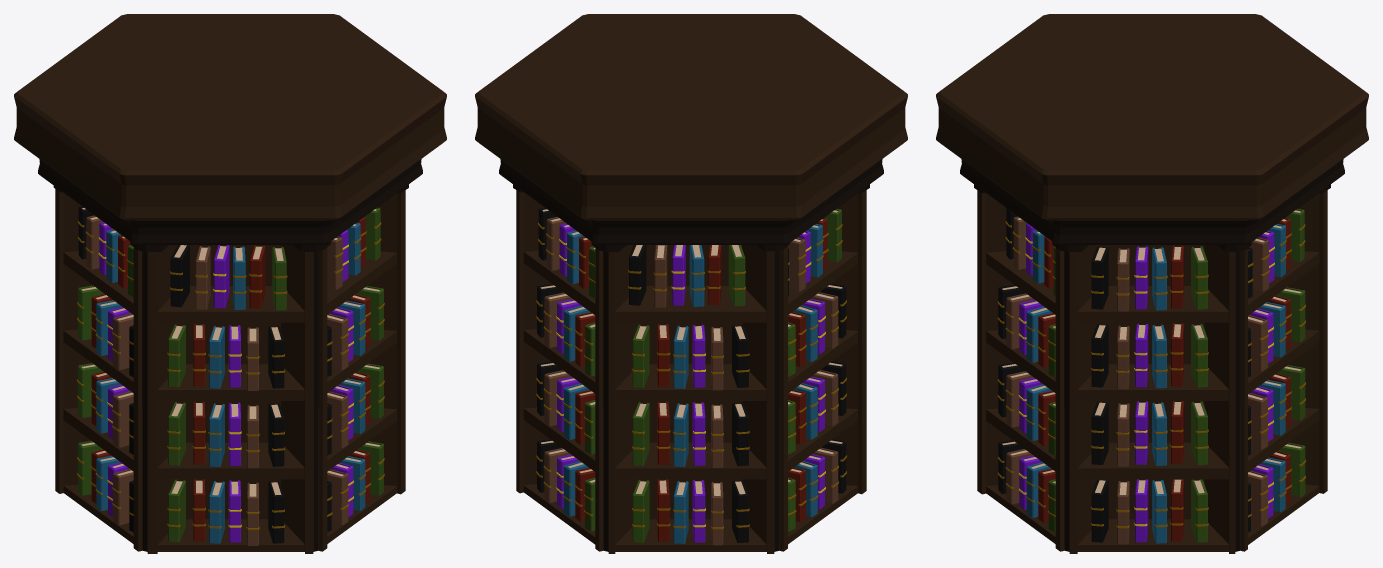
File: Bookshelf.fbx
3 views of the same model, side by side, from view 1: azimuth 30°, elevation 25°; view 2: azimuth 150°, elevation 25°; view 3: azimuth 270°, elevation 25° (orthographic).
Parts seen in each view (by area): view 1: Cylinder.004; view 2: Cylinder.004; view 3: Cylinder.004.
Part boxes in pixels (x1,y1,x2,y2): Cylinder.004: [14, 14, 446, 553]; Cylinder.004: [475, 14, 907, 553]; Cylinder.004: [936, 14, 1368, 553].
Bounding box in the file's own units: 219 × 253 × 250.
